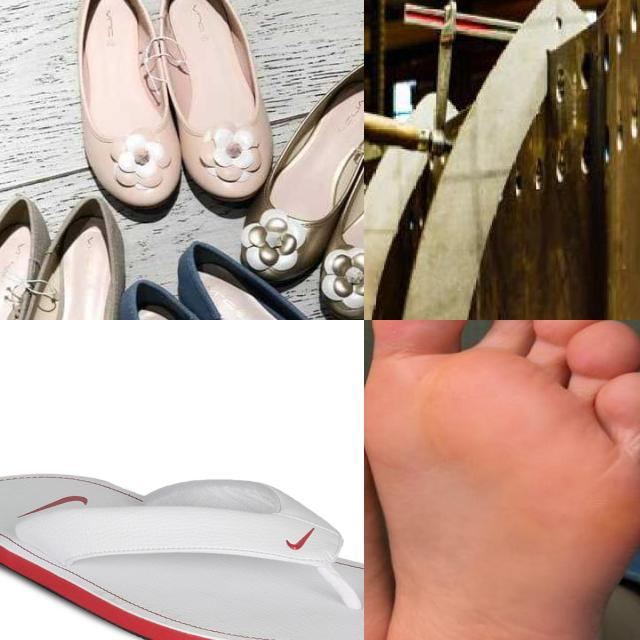Barefoots: (365, 320, 640, 640)
Sandals: (0, 471, 364, 640), (41, 0, 279, 208), (243, 34, 364, 320), (97, 222, 364, 320), (0, 186, 142, 320)
